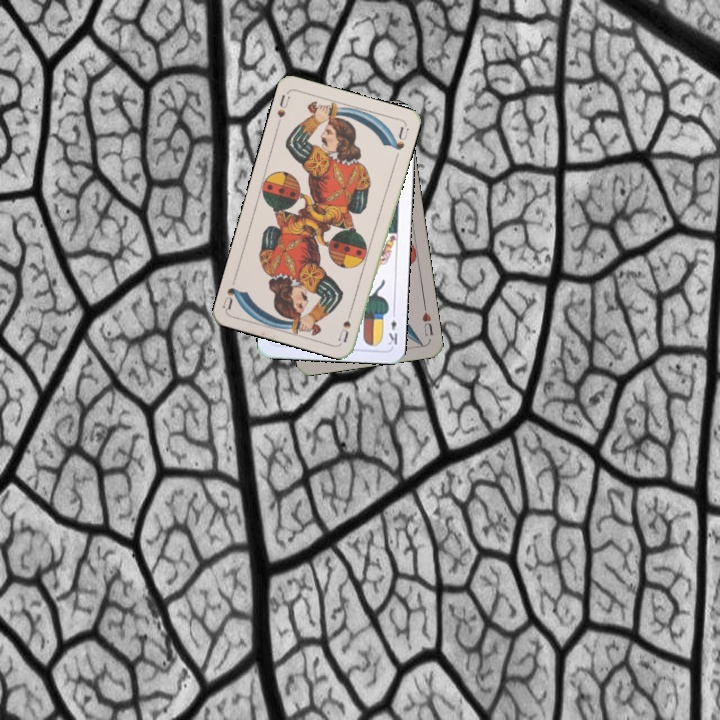EK: (385, 307, 400, 348)
HU: (418, 301, 436, 339)
SU: (334, 304, 355, 344), (273, 91, 293, 120)
